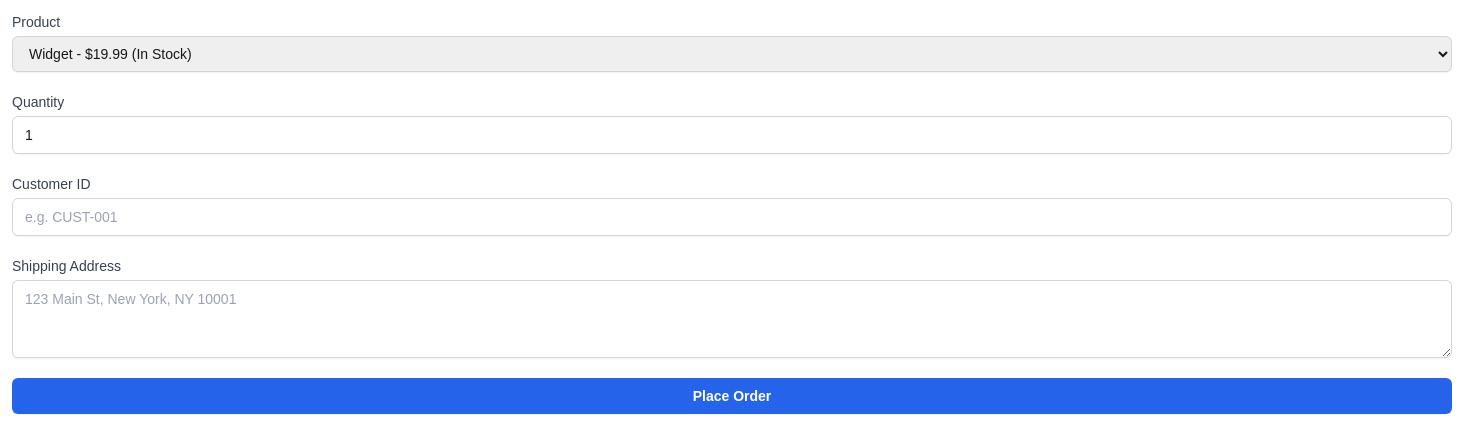
it: OrderForm › disables the submit button while submitting
In the field labelled "Customer ID": (732, 217) [12,198,1452,236], type "CUST-001"
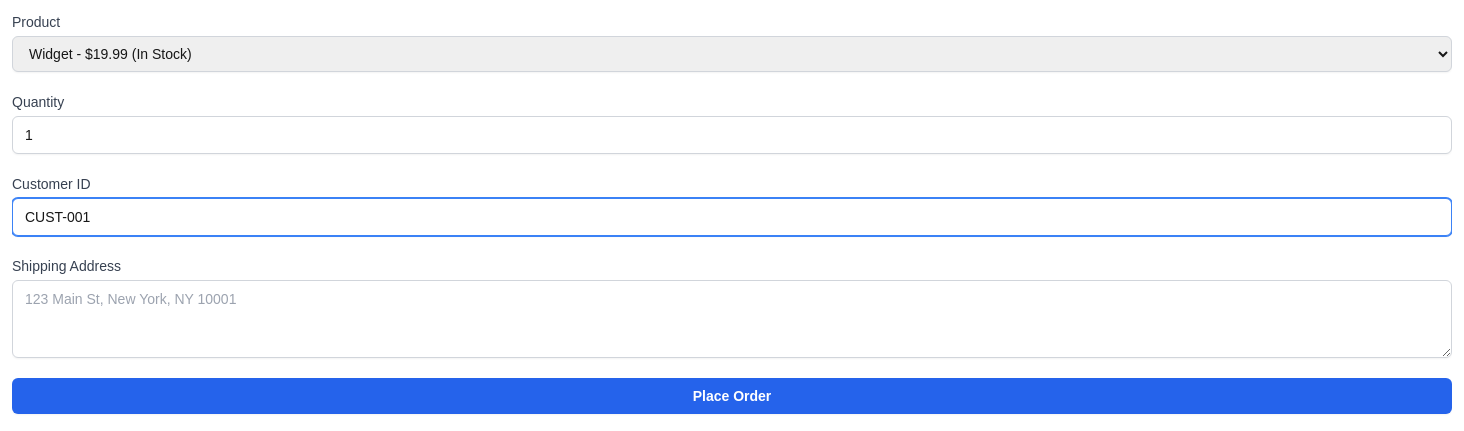
In the text box labelled "Shipping Address": (732, 319) [12,280,1452,358], type "123 Main St"
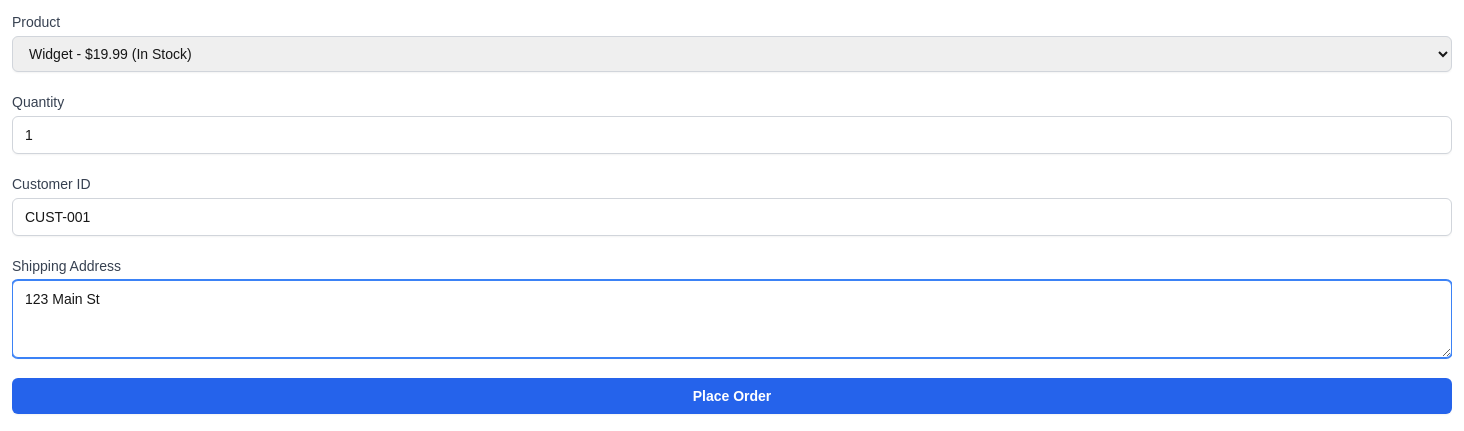
Click the button "Place Order": (732, 396) [12,378,1452,414]
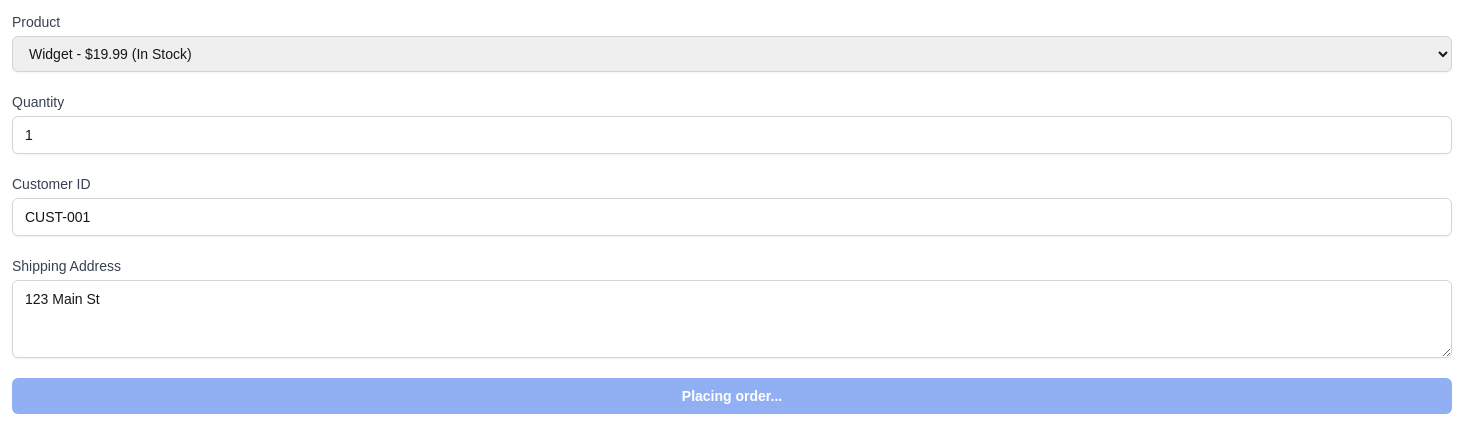
expect the button "Placing order..." is disabled: met, box [12,378,1452,414]
